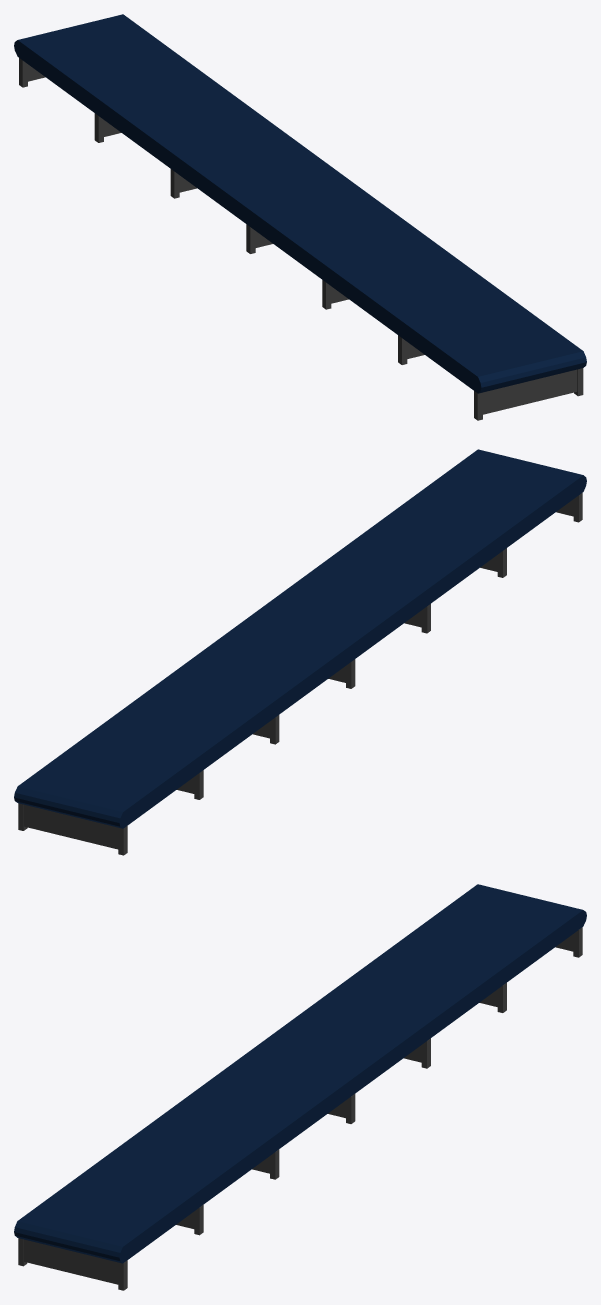
File: Object_robotBase_conveyolBelt(large).fbx
3 renders of one model, top to bottom at view 1: azimuth 30°, elevation 25°; view 2: azimuth 150°, elevation 25°; view 3: azimuth 330°, elevation 25°, orthographic.
Visible parts, largest first — view 1: cinta; view 2: cinta; view 3: cinta.
Part boxes in pixels (<box>): cinta: <box>14,14,586,420</box>; cinta: <box>14,449,586,855</box>; cinta: <box>14,884,586,1290</box>.
Bounding box in the file's own units: 2 × 0.7991 × 15.3.
